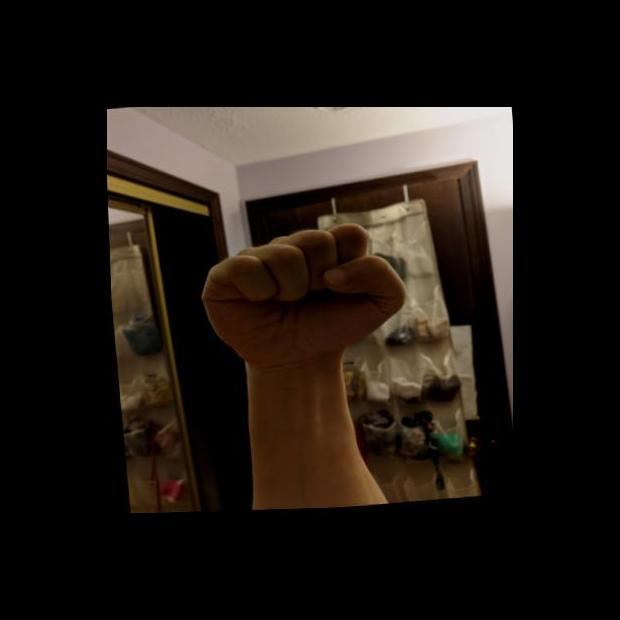R: (189, 217, 414, 373)
